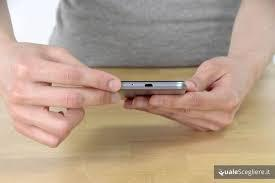0: (6, 43, 119, 156), (136, 60, 247, 145)
Smartphone: (115, 77, 190, 105)
